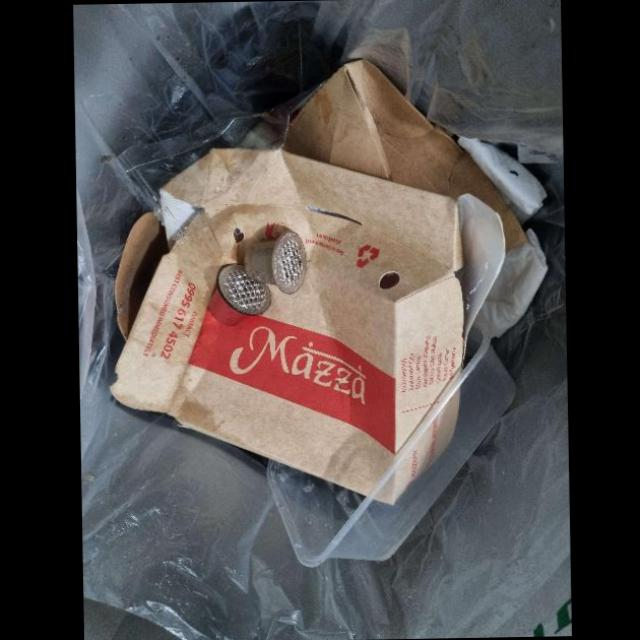carton: (109, 145, 506, 503), (282, 58, 527, 253)
hop_nhua: (266, 315, 516, 568), (244, 231, 306, 294), (209, 264, 270, 325)
